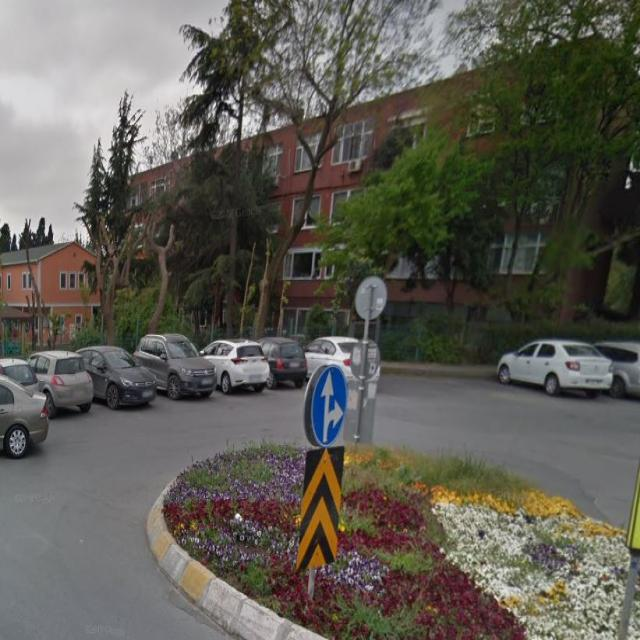ilerisag: (312, 365, 347, 447)
